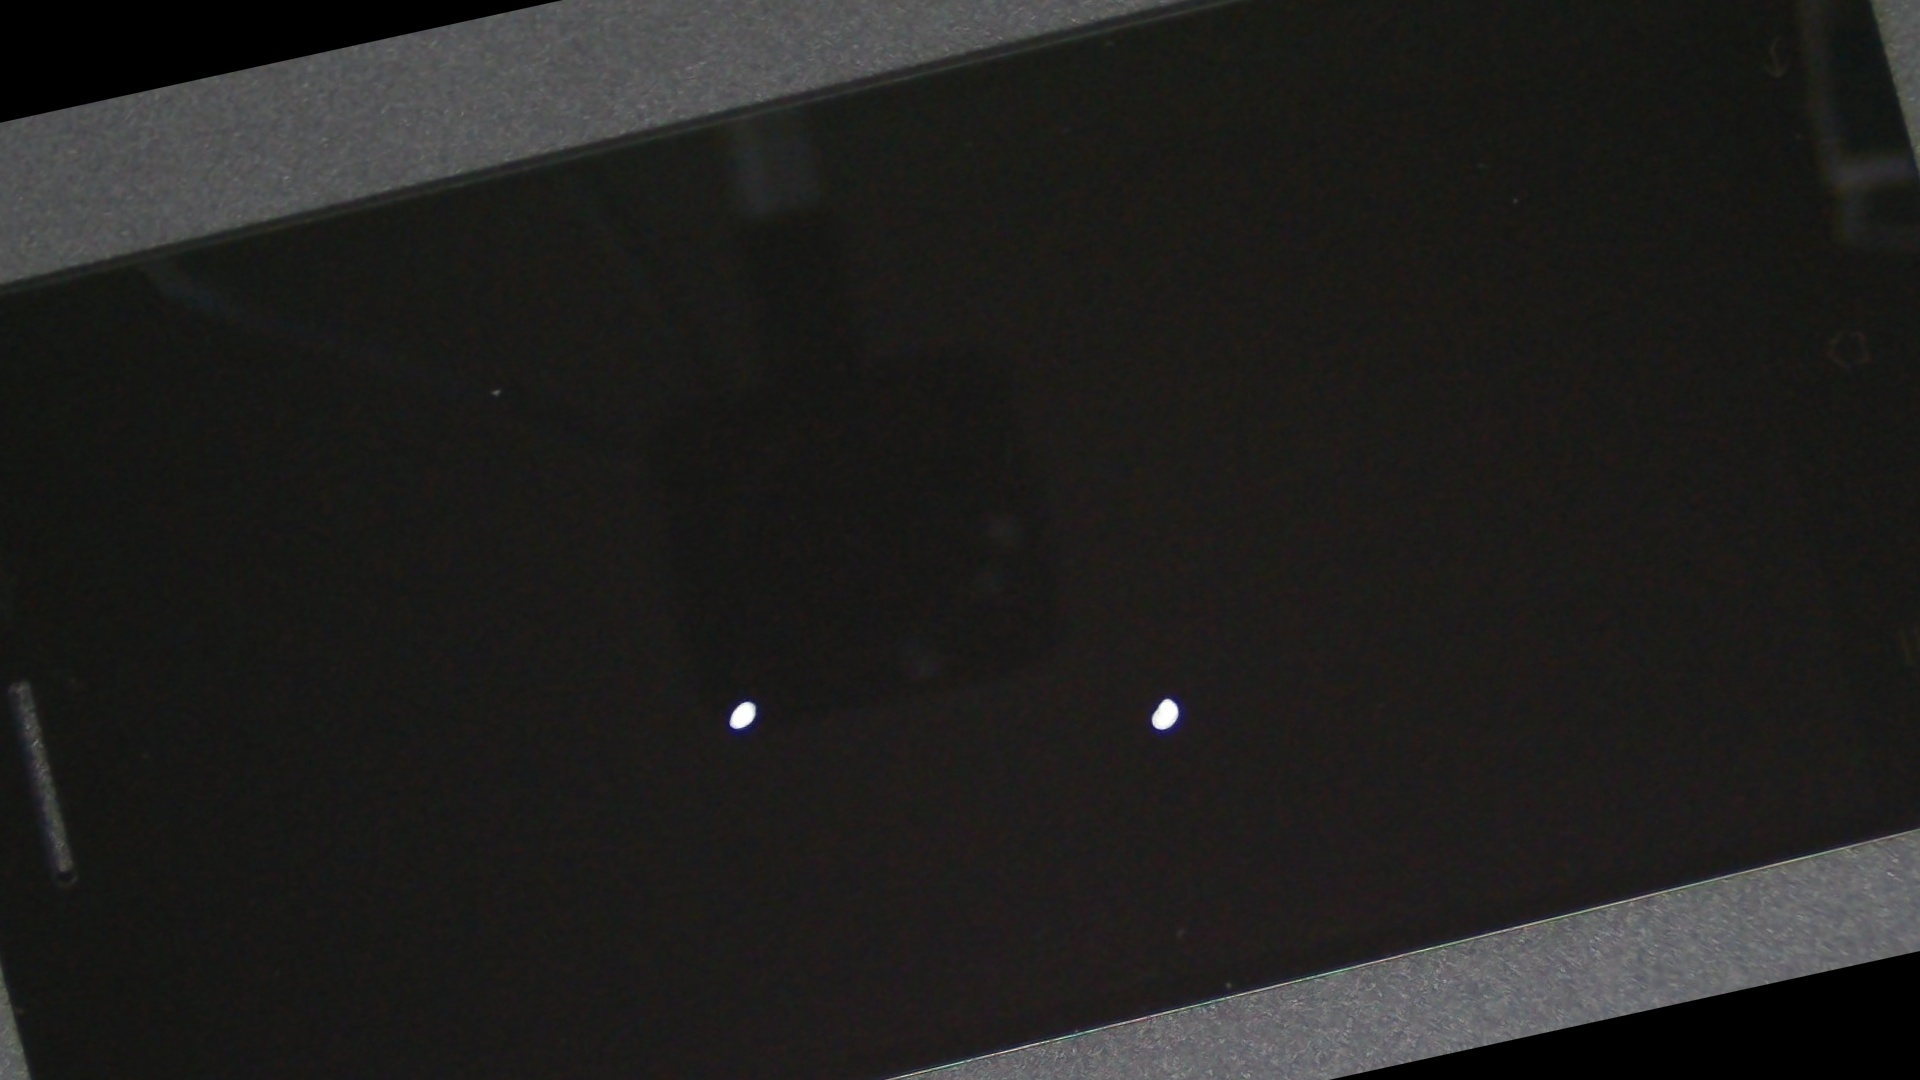oil: (430, 160, 1899, 1080), (218, 251, 1265, 1080), (57, 529, 707, 1080), (686, 0, 1920, 182)
